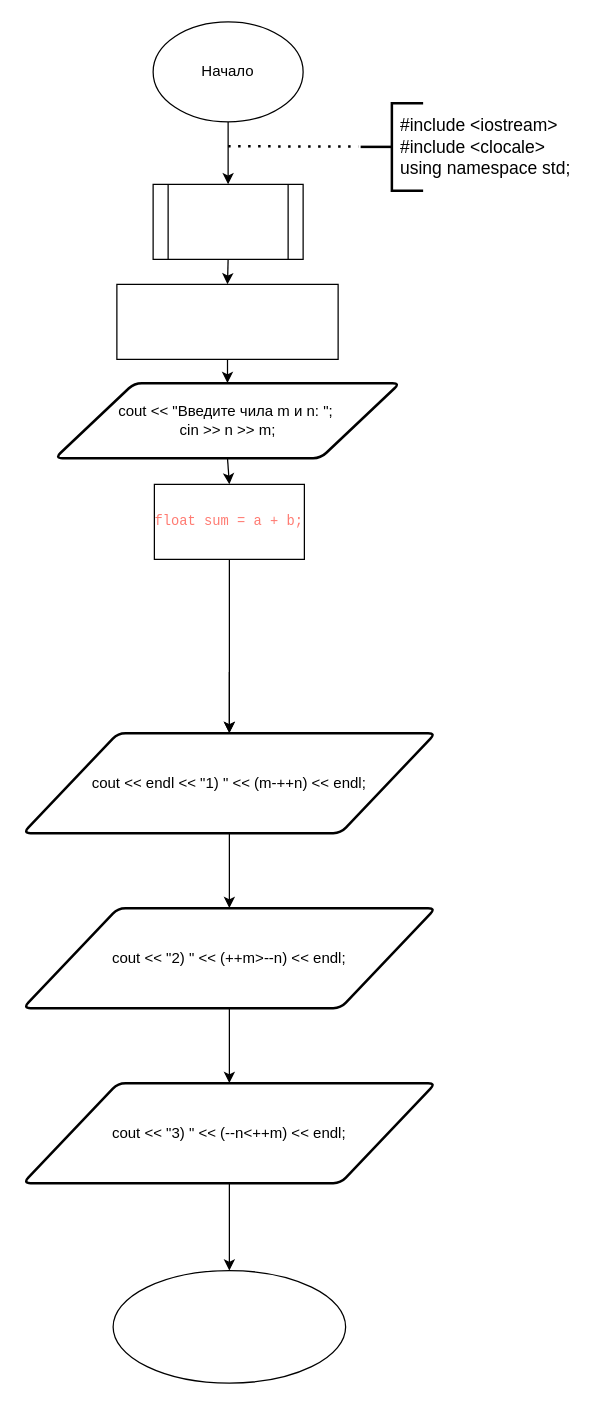
Image size: 594x1405. Some labels were removed from this diagram. The shapes that lost their labels are listed below. From the top down, each one's centre as x and y in pixels, then its label:
point (227, 221): int main(){
point (227, 321): setlocale(LC_ALL, ".65001"); int n,m;
point (229, 1326): return 0; }
